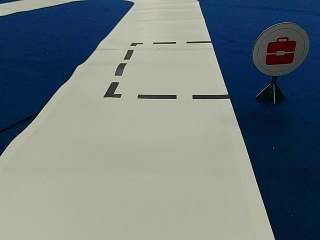company: (253, 23, 310, 74)
